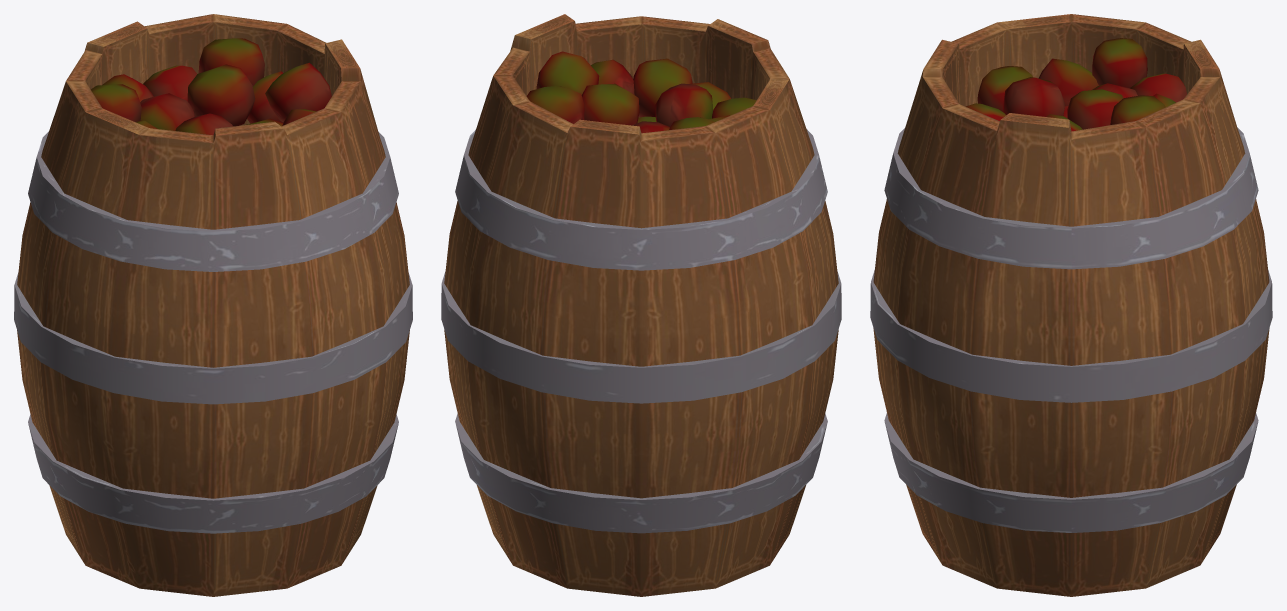
File: Barrel_Apples.gltf
3 renders of one model, left to right at view 1: azimuth 30°, elevation 25°; view 2: azimuth 150°, elevation 25°; view 3: azimuth 270°, elevation 25°, orthographic.
Visible parts, largest first — view 1: Barrel_Apples; view 2: Barrel_Apples; view 3: Barrel_Apples.
Boxes of the visible parts, x1,y1,x2,y2 form: Barrel_Apples: (14, 14, 412, 596); Barrel_Apples: (441, 14, 841, 596); Barrel_Apples: (870, 14, 1272, 596).
Size of the model in its own units: 0.698 by 0.898 by 0.698.
3 materials, 3 textured.
